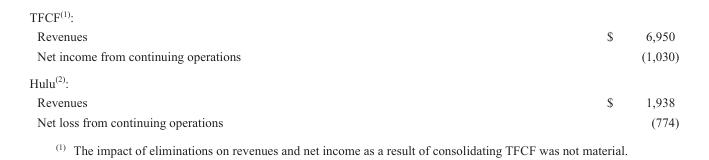table: (28, 28, 678, 128)
table column: (28, 28, 423, 128), (423, 28, 678, 128)
table projected row header: (28, 68, 678, 92)
table row: (28, 68, 678, 92), (28, 45, 678, 68), (28, 92, 678, 111), (28, 28, 678, 45), (28, 111, 678, 128)
